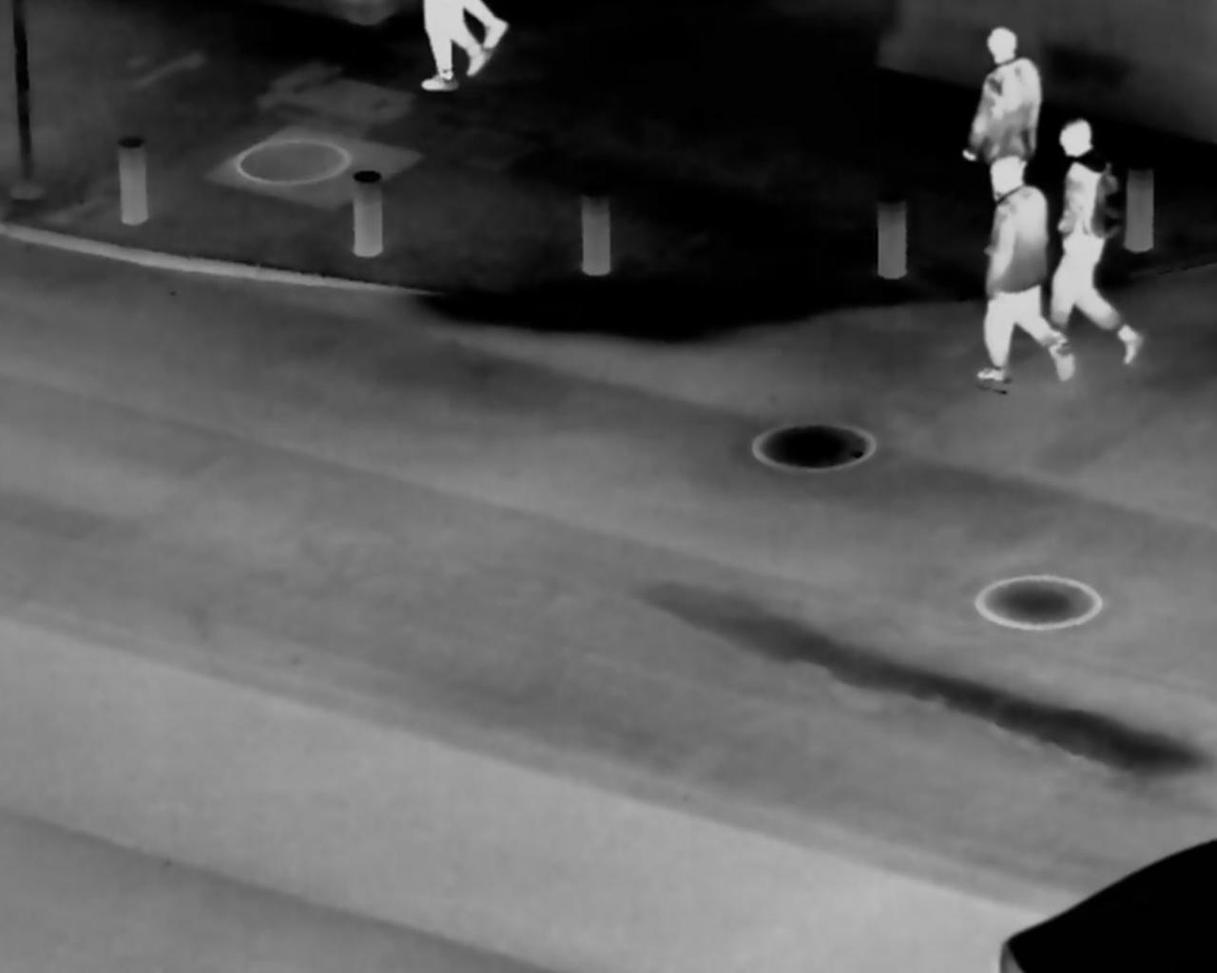person: (1042, 116, 1148, 374), (976, 158, 1066, 393), (969, 24, 1050, 187)
